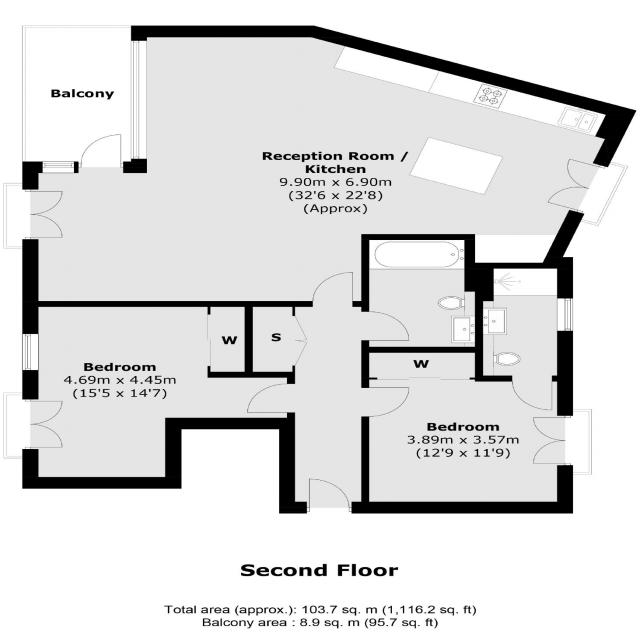DOOR: (355, 383, 415, 422), (76, 131, 127, 176), (304, 475, 356, 516), (357, 309, 415, 345), (244, 380, 300, 417), (306, 269, 357, 309), (508, 374, 554, 412)
DOUBLE DOOR: (529, 413, 576, 467), (23, 397, 66, 451)
ROOM: (19, 23, 637, 308), (16, 299, 301, 492), (359, 345, 575, 515)
WINDOW: (126, 37, 152, 162), (18, 332, 42, 374), (555, 297, 576, 334), (37, 159, 79, 176)
